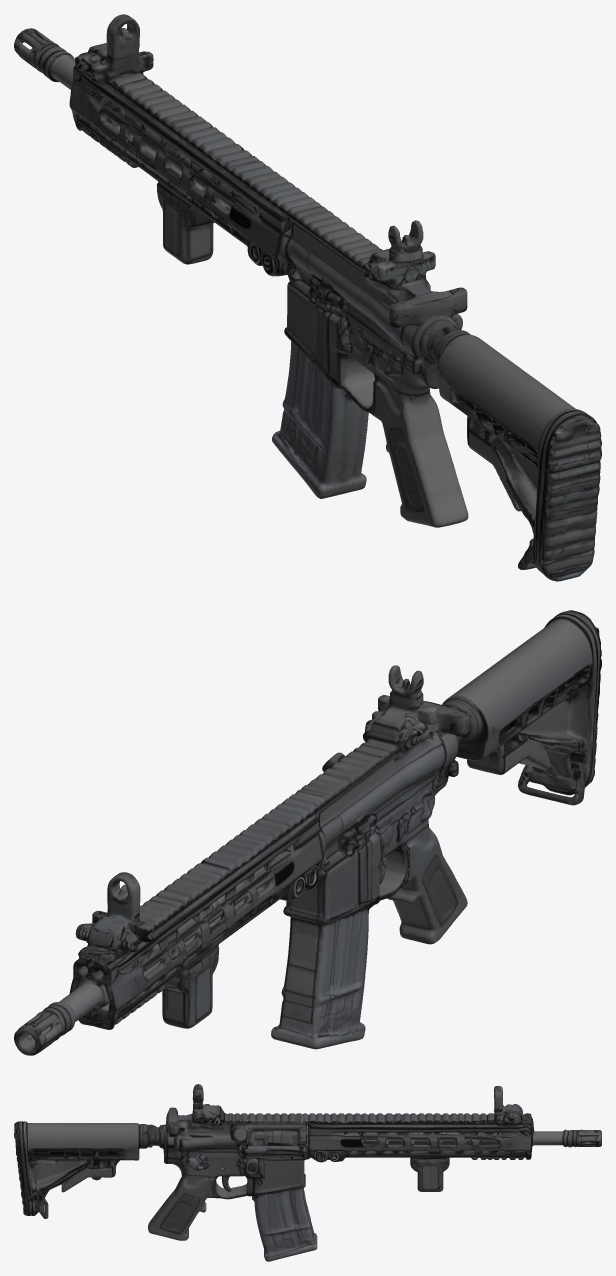
The picture shows the model from 3 angles, top to bottom: view 1: azimuth 30°, elevation 25°; view 2: azimuth 150°, elevation 25°; view 3: azimuth 270°, elevation 25°; orthographic projection. The views are drawn at different scales.
Visible parts, largest first — view 1: tripo_node_77c203c9-de4d-4ae7-8cbd-36a92b715e0f; view 2: tripo_node_77c203c9-de4d-4ae7-8cbd-36a92b715e0f; view 3: tripo_node_77c203c9-de4d-4ae7-8cbd-36a92b715e0f.
Part boxes in pixels (x1,y1,x2,y2): tripo_node_77c203c9-de4d-4ae7-8cbd-36a92b715e0f: (14,14,601,581); tripo_node_77c203c9-de4d-4ae7-8cbd-36a92b715e0f: (14,610,601,1055); tripo_node_77c203c9-de4d-4ae7-8cbd-36a92b715e0f: (14,1084,601,1261).
Size of the model in its own units: 0.0844 by 0.3182 by 1.
Materials: 1 (1 with a texture image).
